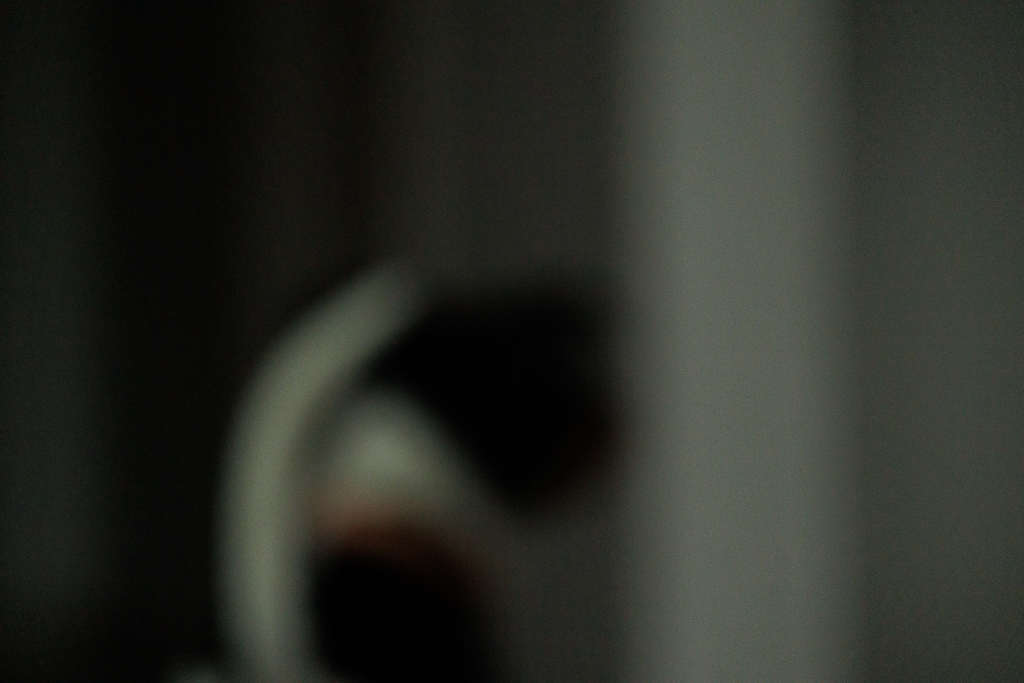Dog: (198, 251, 659, 683)
